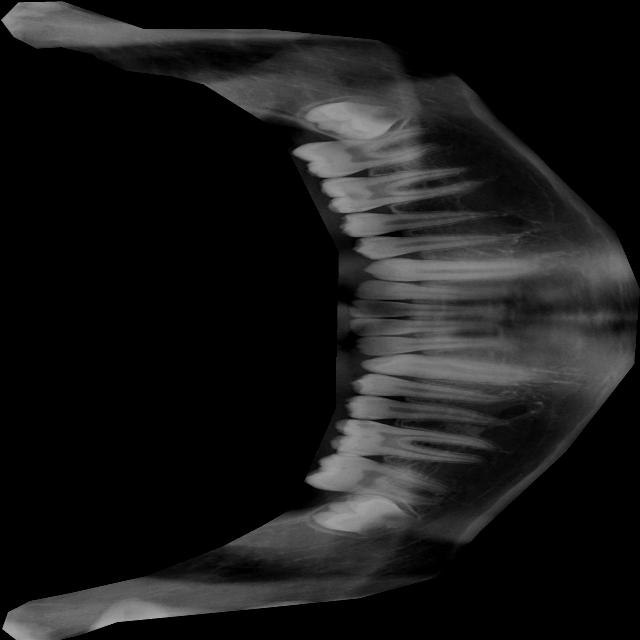mandibula: (1, 0, 640, 640)
